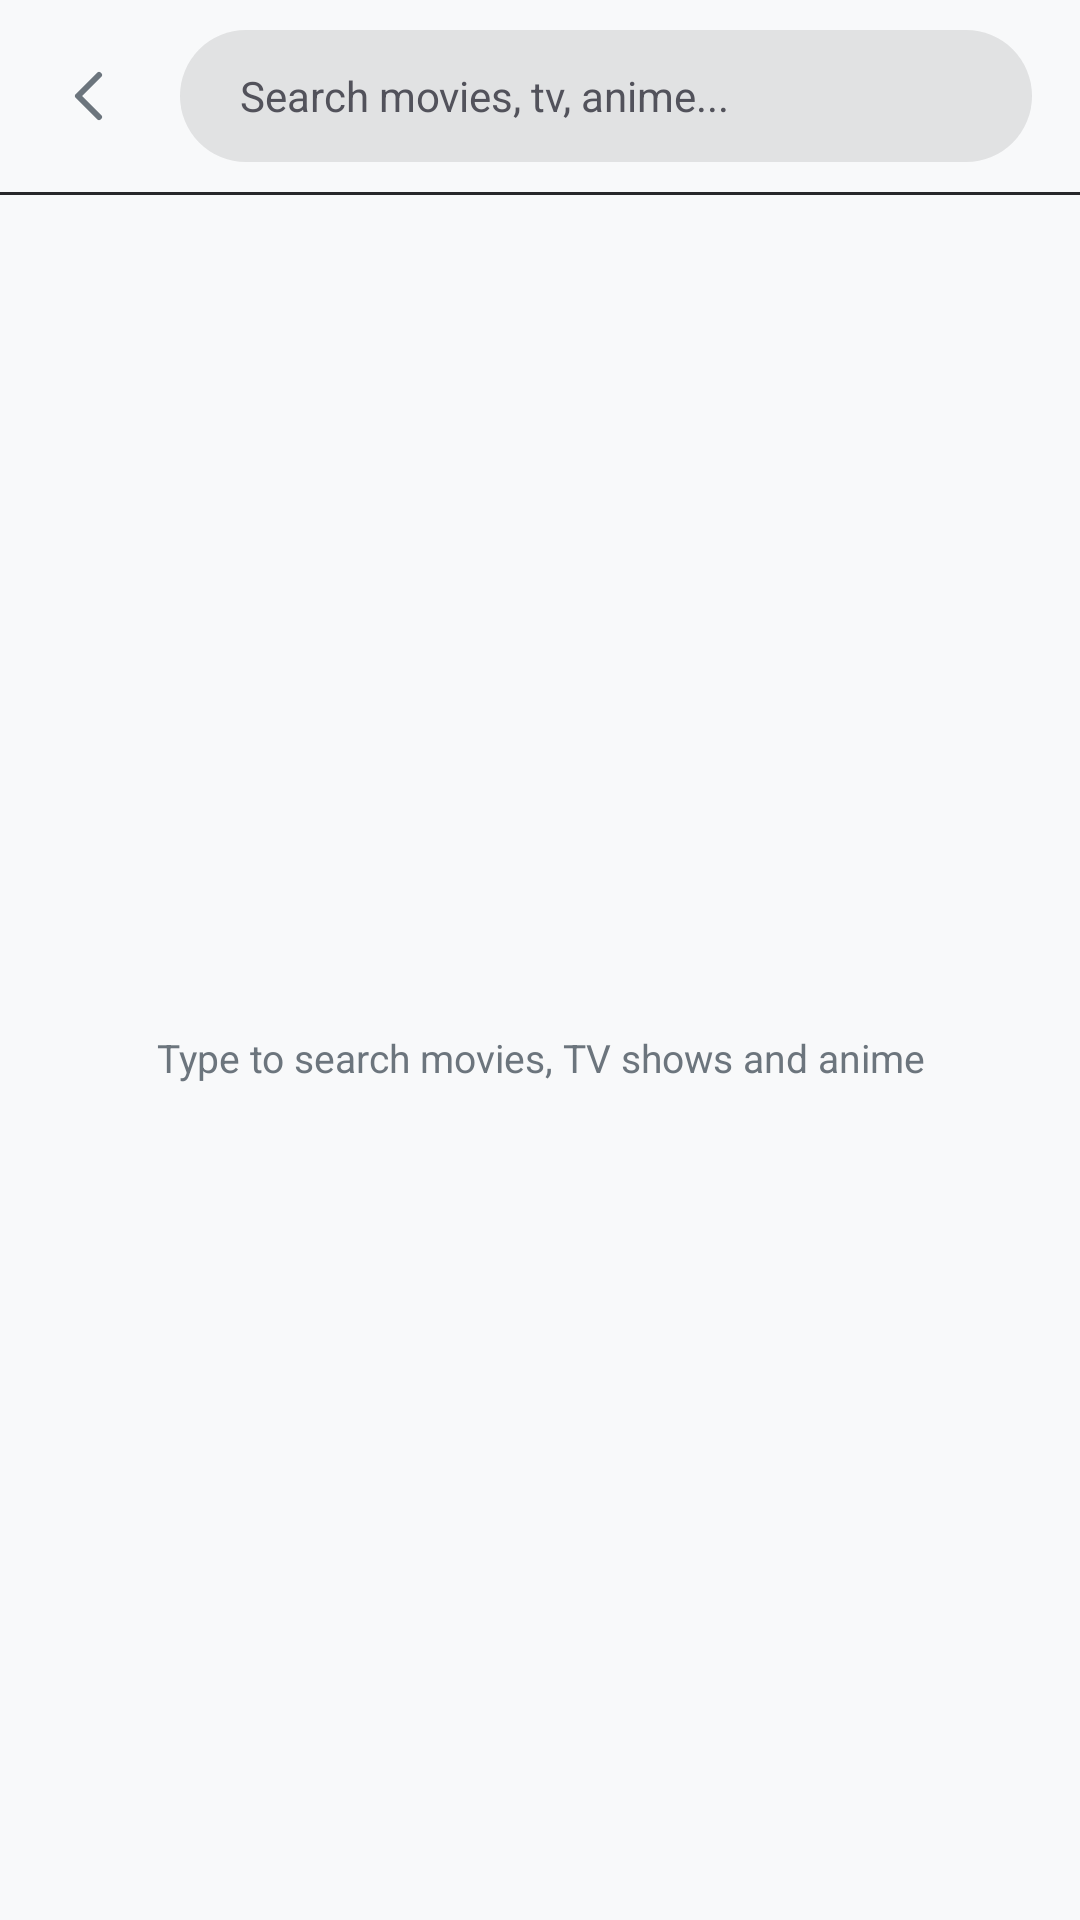

Named icons in this screenshot (1080×1920) and their centers, point (x, y):
Back: point (88, 96)
